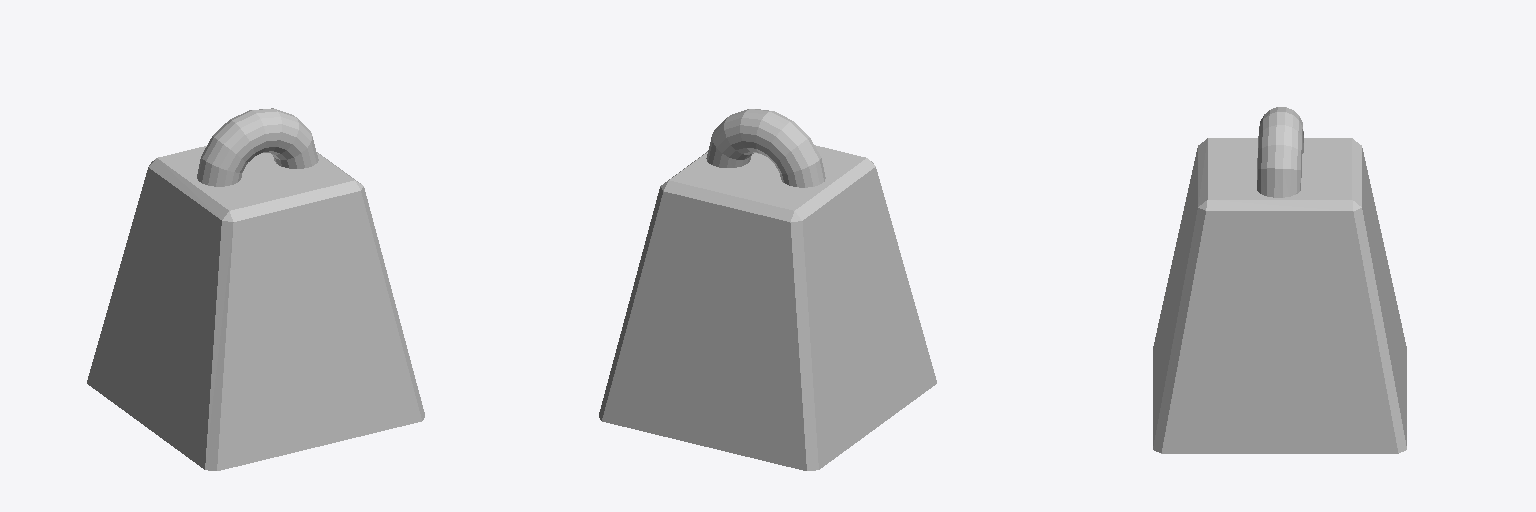
The model's file is pesa_low.obj.
The picture shows the model from 3 angles: view 1: azimuth 30°, elevation 25°; view 2: azimuth 150°, elevation 25°; view 3: azimuth 270°, elevation 25°; orthographic projection.
Visible parts, largest first — view 1: pCube5, pTorus1; view 2: pCube5, pTorus1; view 3: pCube5, pTorus1.
Part boxes in pixels (bbox=[...]): pCube5: bbox=[87, 146, 424, 470]; pTorus1: bbox=[197, 108, 318, 186]; pCube5: bbox=[599, 145, 936, 470]; pTorus1: bbox=[706, 109, 825, 187]; pCube5: bbox=[1153, 138, 1406, 453]; pTorus1: bbox=[1257, 107, 1303, 197].
Bounding box in the file's own units: 9.71 × 12.1 × 9.71.